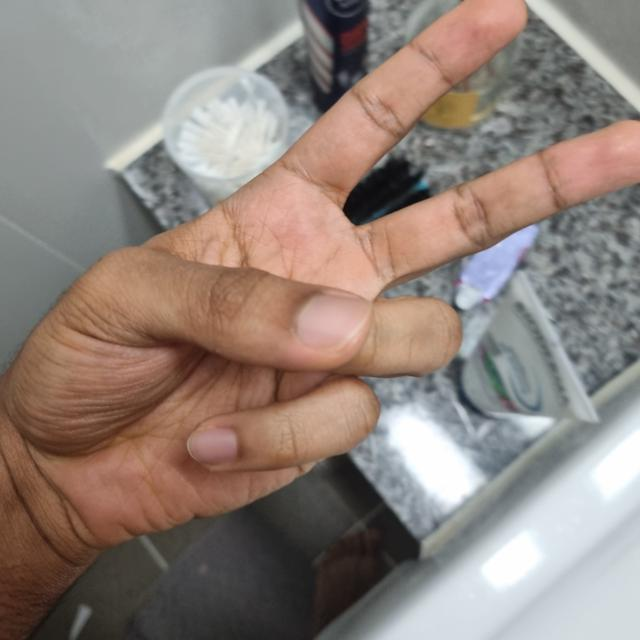Scissors: (2, 0, 639, 538)
